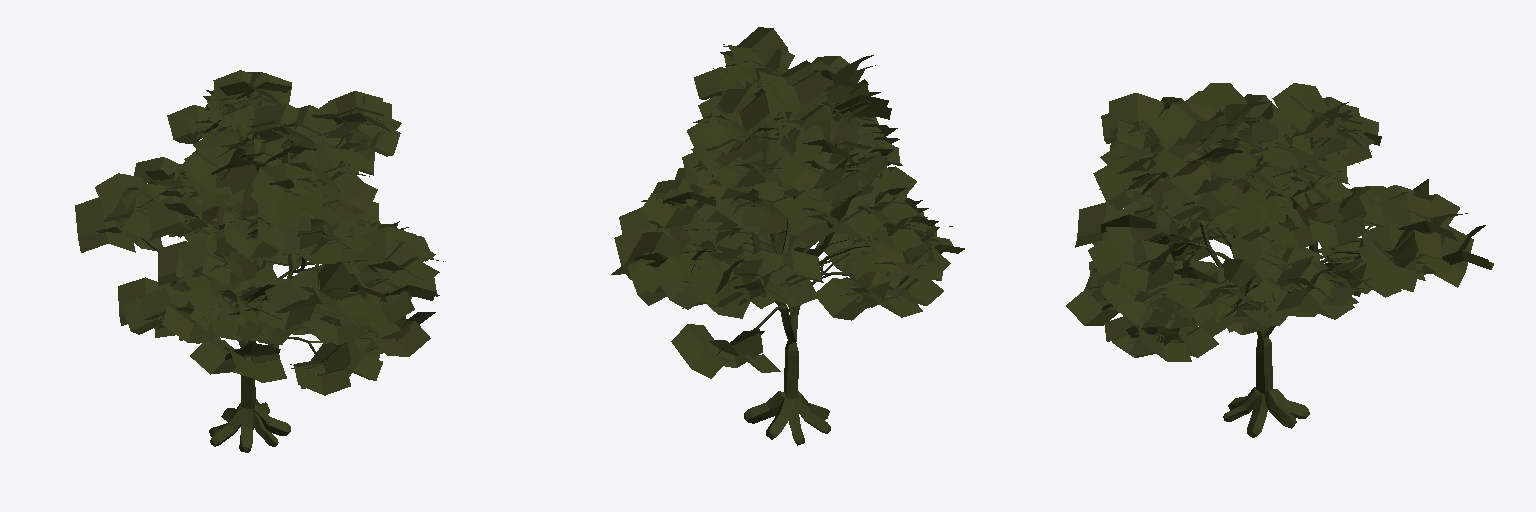
File: SmallBushTree.obj
3 renders of one model, left to right at view 1: azimuth 30°, elevation 25°; view 2: azimuth 150°, elevation 25°; view 3: azimuth 270°, elevation 25°, orthographic.
Visible parts, largest first — view 1: Sonnerat; view 2: Sonnerat; view 3: Sonnerat.
Boxes of the visible parts, x1=… form: Sonnerat: x1=75, y1=70, x2=443, y2=452; Sonnerat: x1=611, y1=27, x2=964, y2=445; Sonnerat: x1=1066, y1=83, x2=1493, y2=437.
Size of the model in its own units: 0.9316 by 1.07 by 1.18.